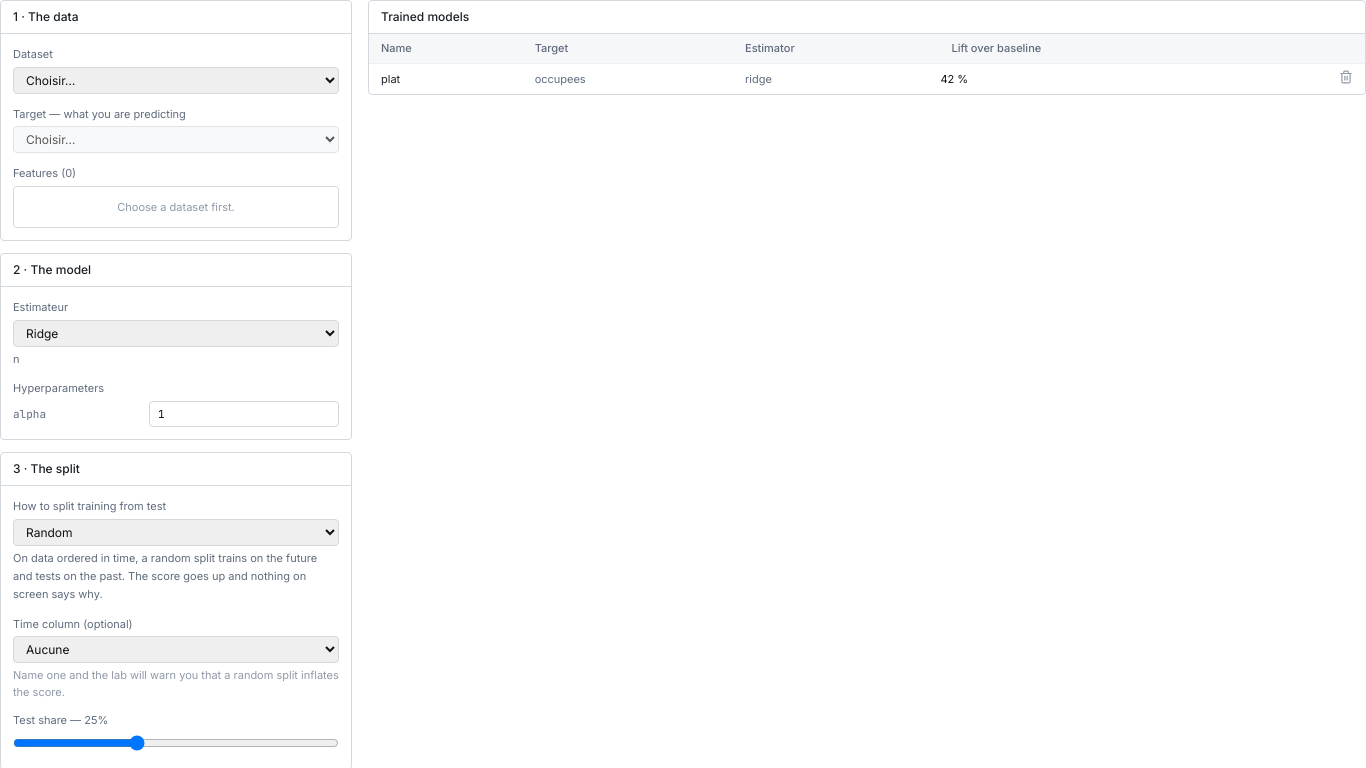
Test: what the result says › shows a warning above the numbers it invalidates
This screenshot has width=1366, height=768.
Click the text "plat" at (391, 78), box [369,63,523,94]
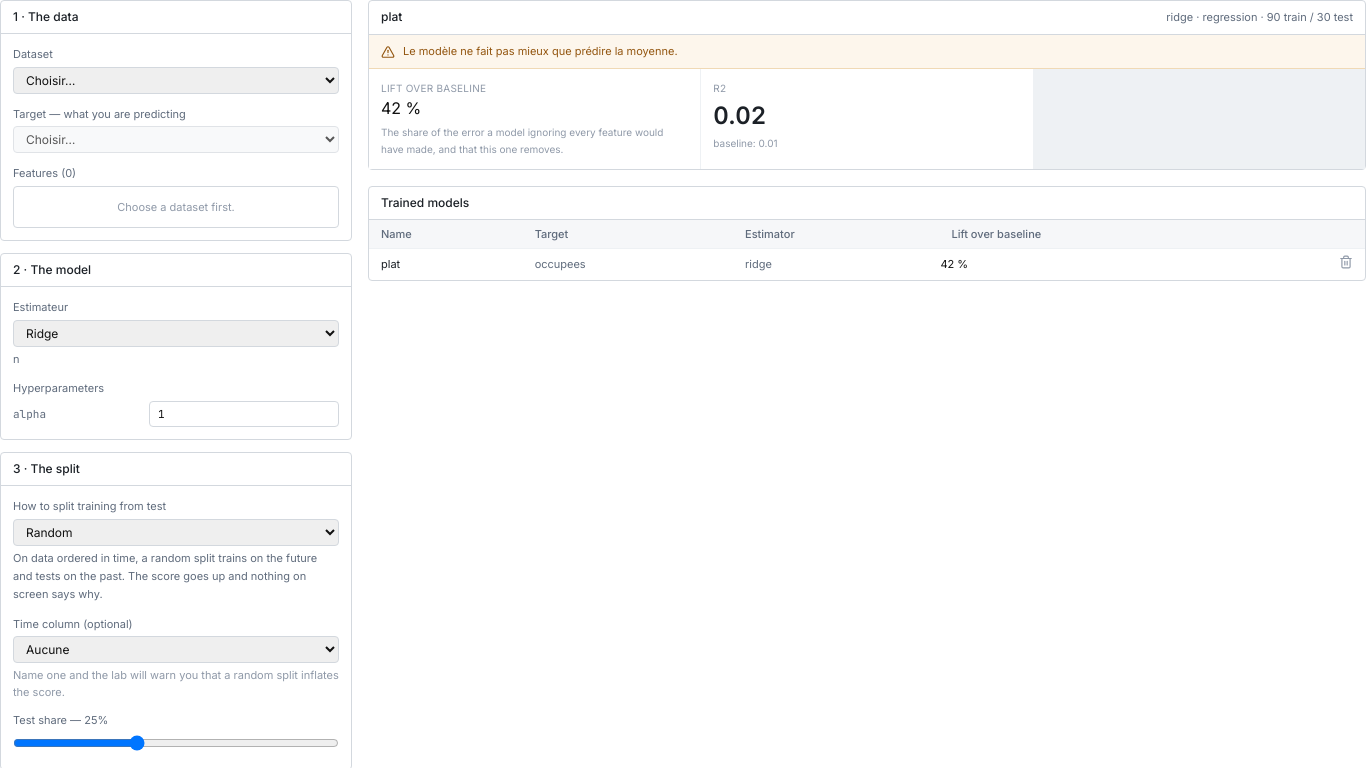
Result: the text "Le modèle ne fait pas mieux que prédire la moyenne." is shown at [403,42,678,60]
